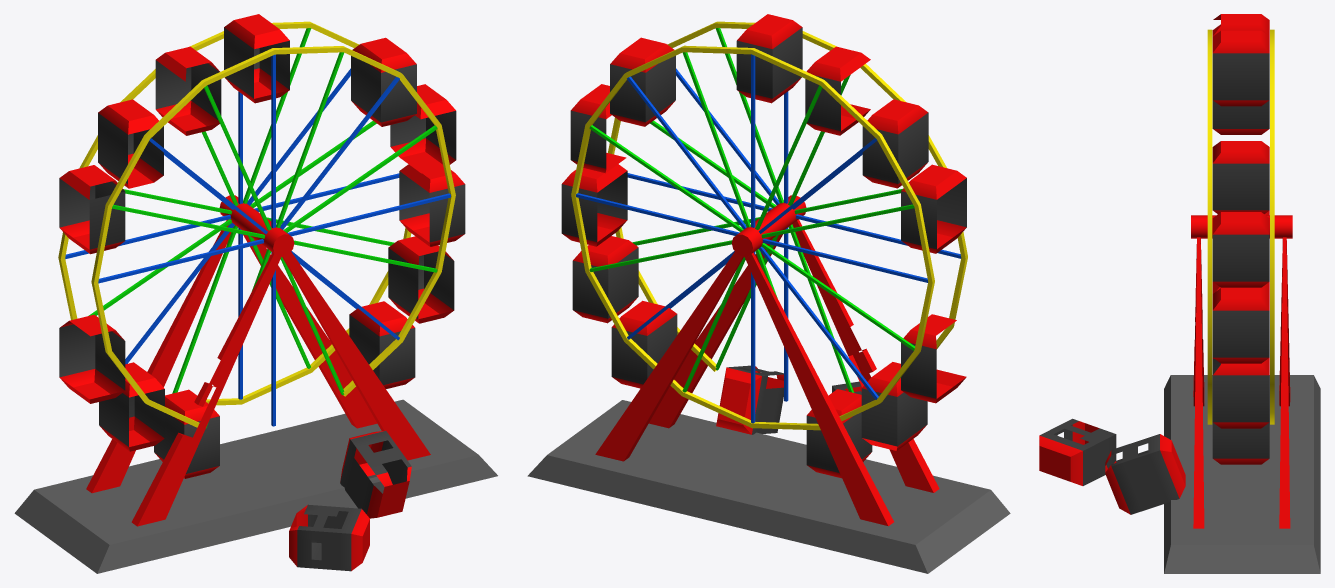
Rendered from 03 Sparkle.FBX.
3 views of the same model, side by side, from view 1: azimuth 30°, elevation 25°; view 2: azimuth 150°, elevation 25°; view 3: azimuth 270°, elevation 25° (orthographic). The views are drawn at different scales.
Visible parts, largest first — view 1: Sparkle; view 2: Sparkle; view 3: Sparkle.
Boxes of the visible parts, x1,y1,x2,y2 form: Sparkle: (14, 14, 497, 573); Sparkle: (527, 14, 1010, 573); Sparkle: (1039, 14, 1320, 573).
Bounding box in the file's own units: 5611 × 6286 × 3600.
